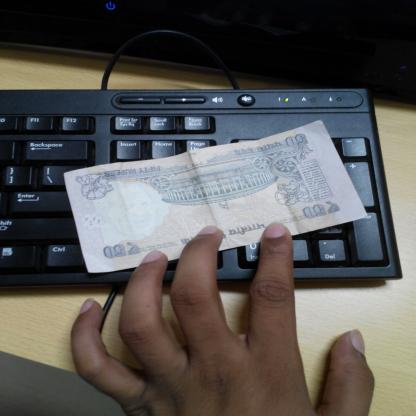Old50Back: (65, 120, 366, 273)
